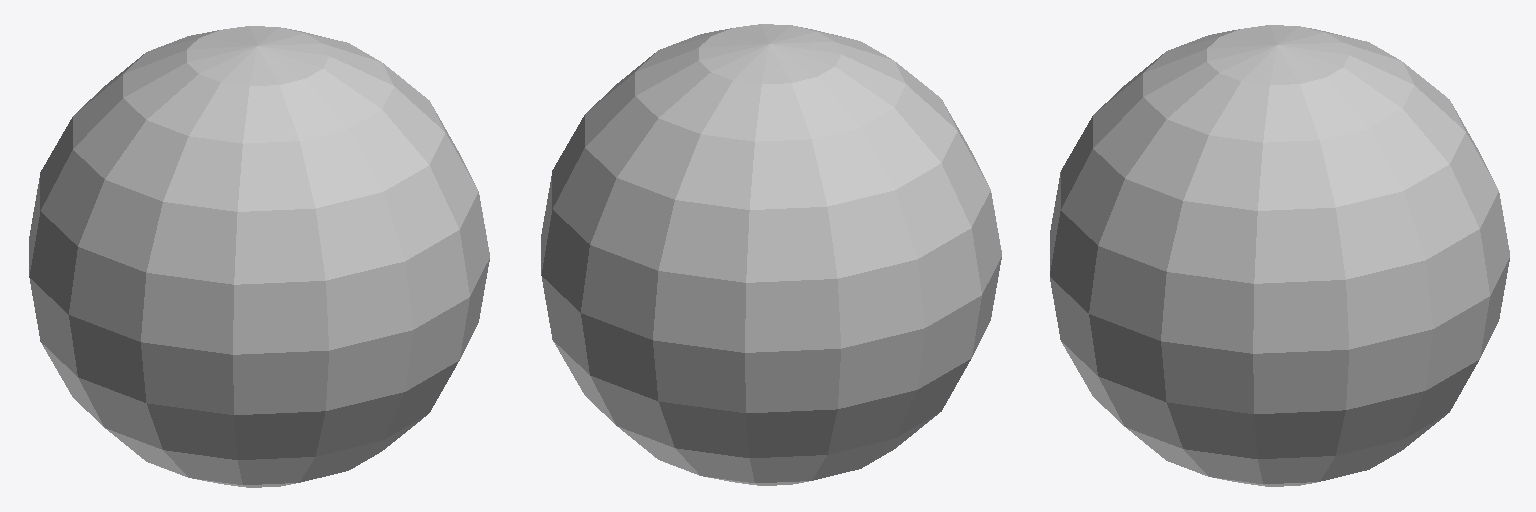
Rendered from sphere_simple.obj.
3 renders of one model, left to right at view 1: azimuth 30°, elevation 25°; view 2: azimuth 150°, elevation 25°; view 3: azimuth 270°, elevation 25°, orthographic.
Visible parts, largest first — view 1: Sphere; view 2: Sphere; view 3: Sphere.
Boxes of the visible parts, box(x1,y1,x2,y2) form: Sphere: box(29, 26, 489, 487); Sphere: box(541, 24, 1001, 485); Sphere: box(1050, 25, 1509, 486).
Bounding box in the file's own units: 1.99 × 2 × 1.98.